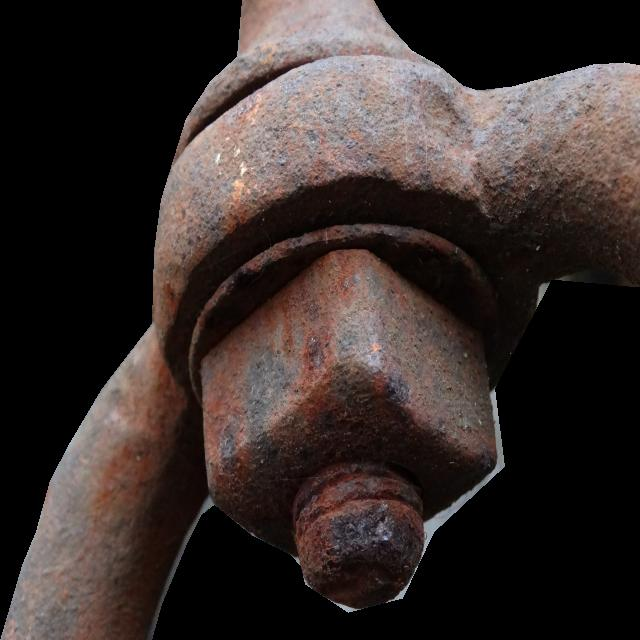Uniform Corrosion: (0, 0, 640, 640)
